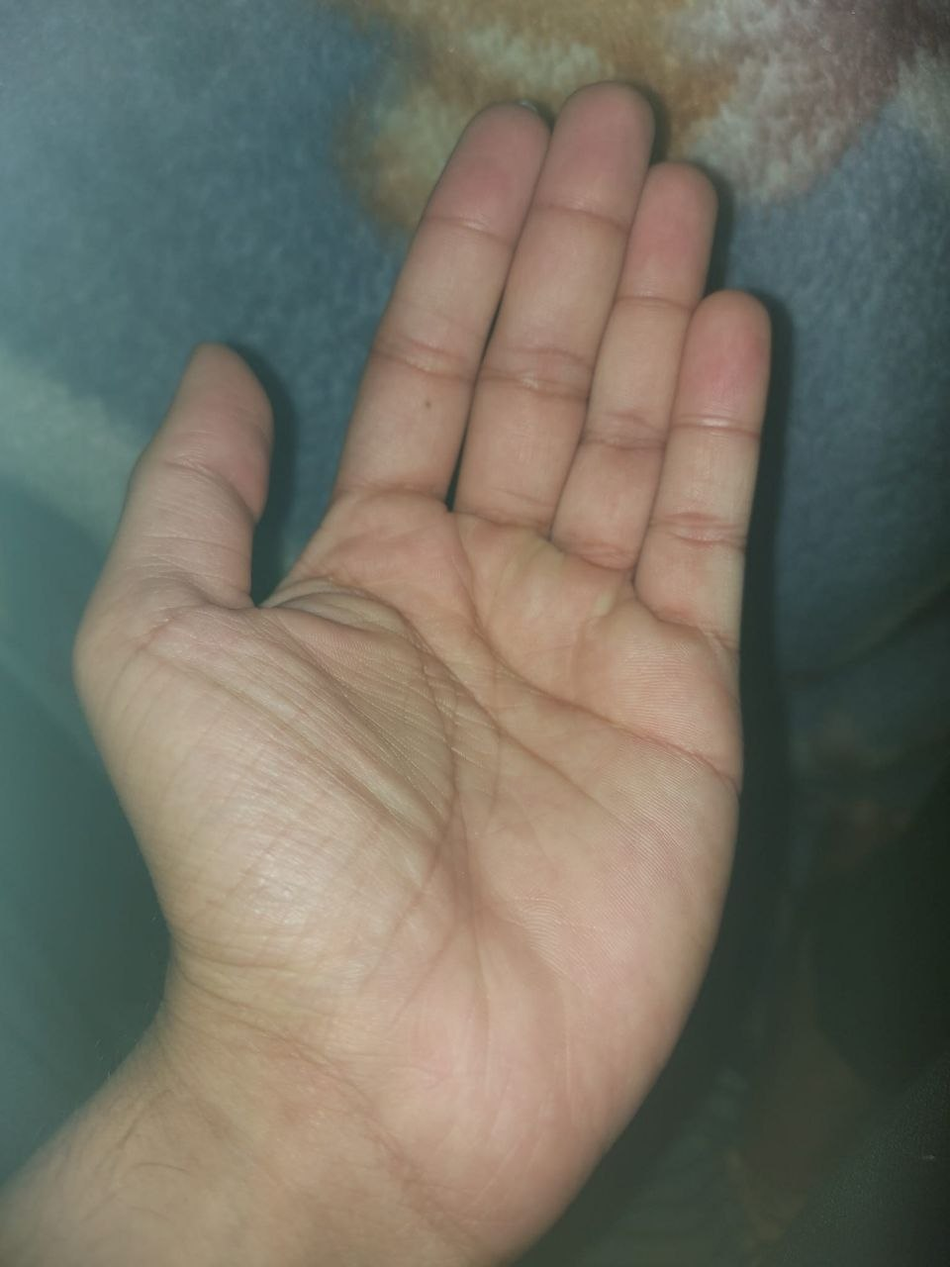Palm: (24, 17, 915, 1229)
